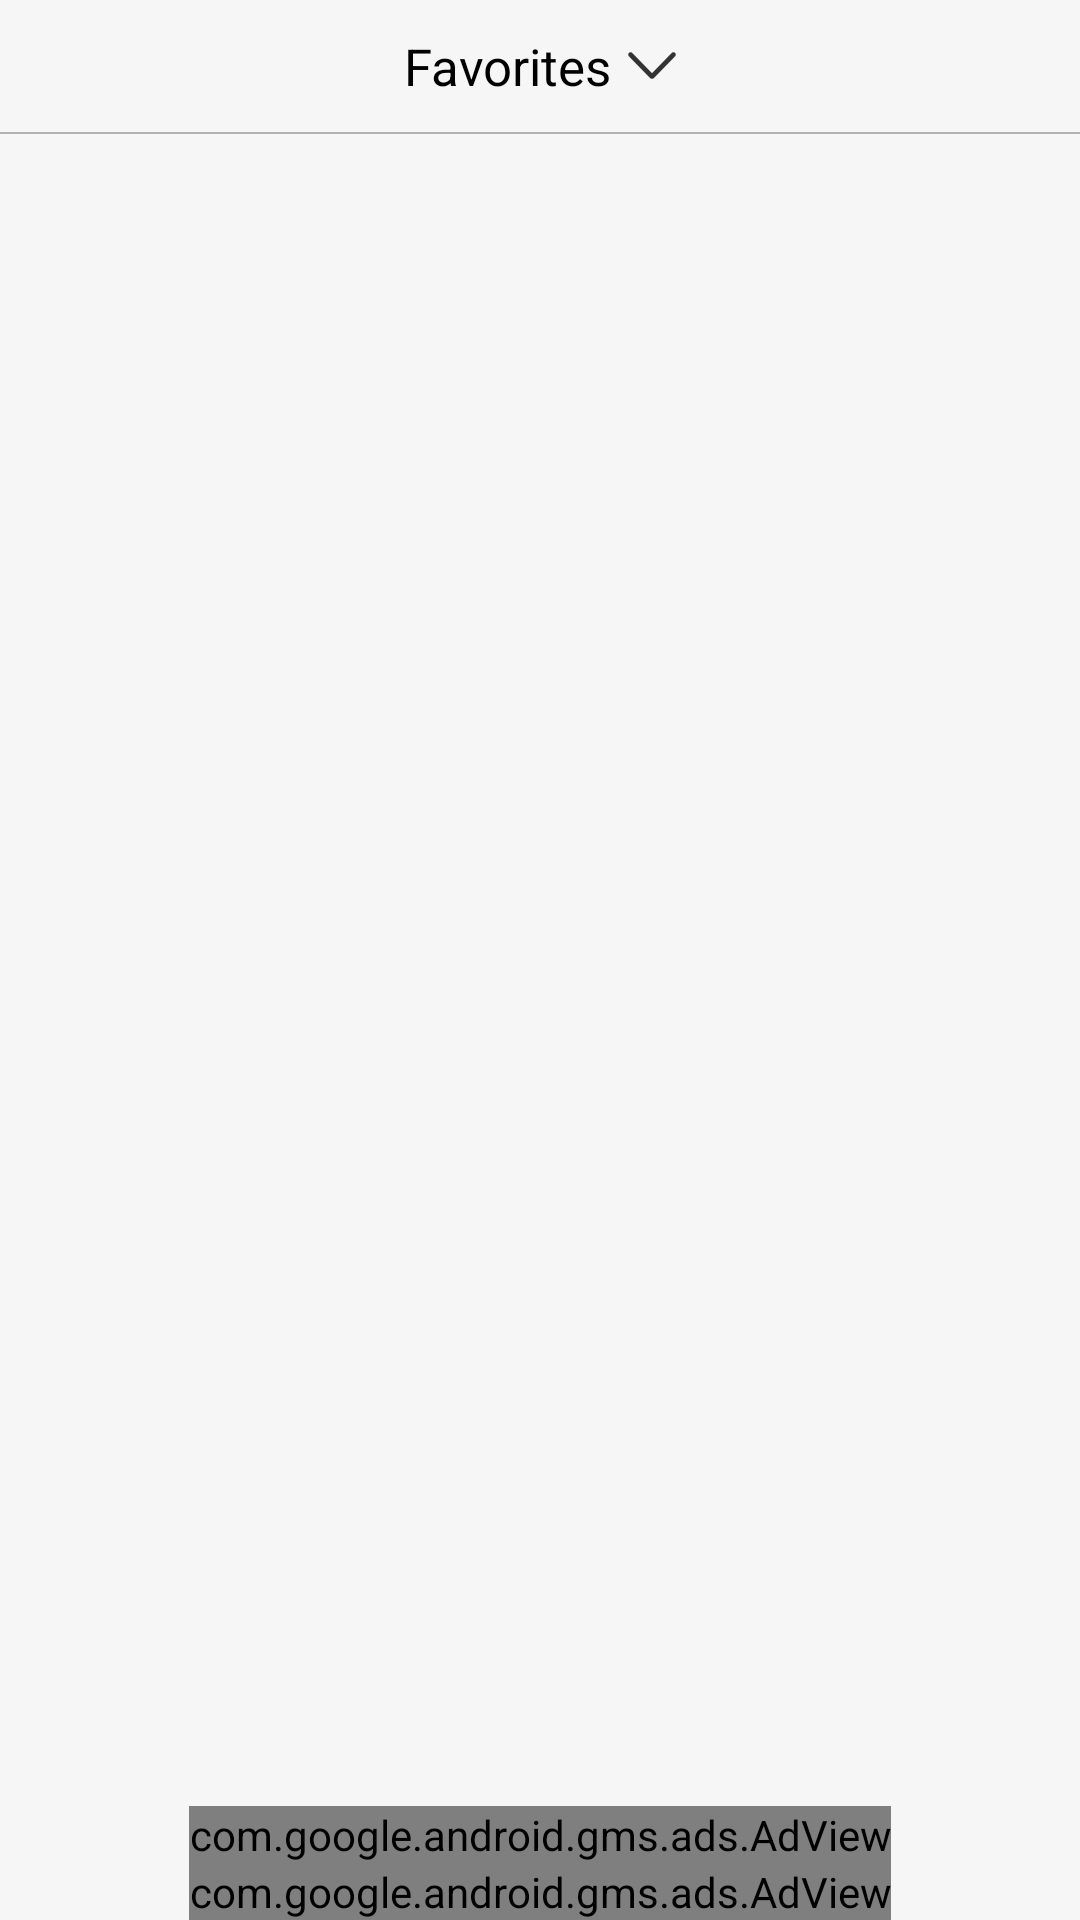

Screen size 1080 × 1920. Icon name, then its center in pixels as point (x, y):
collection down: point (652, 65)
